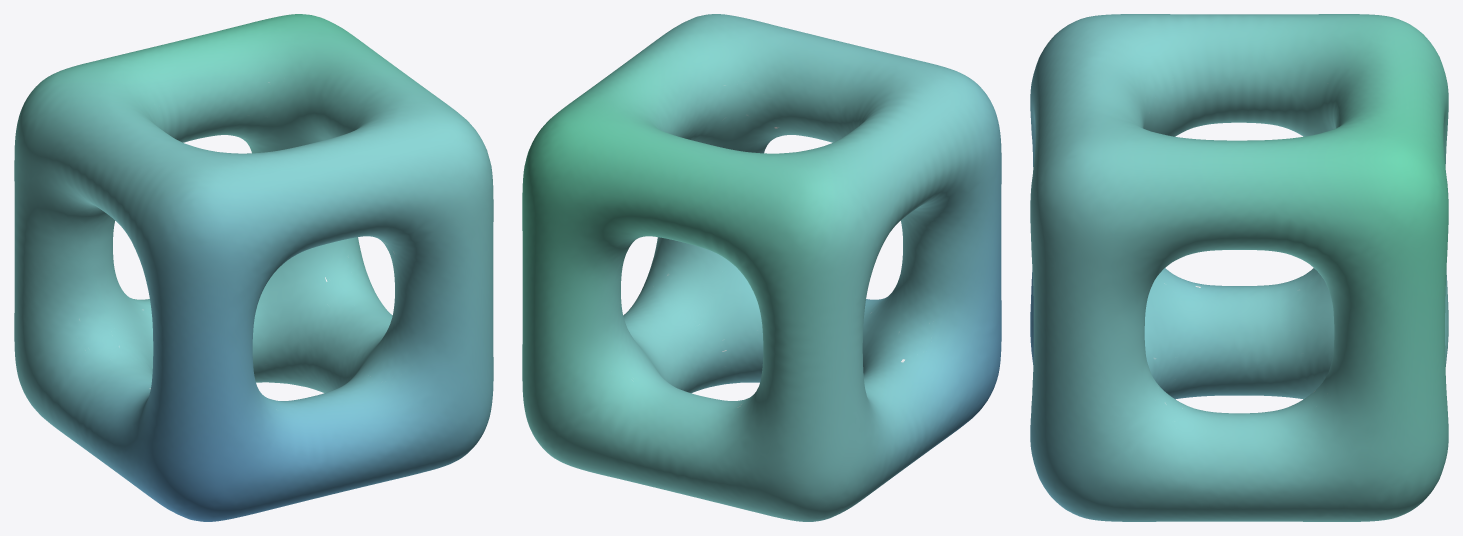
File: 05_squube_static.glb
3 renders of one model, left to right at view 1: azimuth 30°, elevation 25°; view 2: azimuth 150°, elevation 25°; view 3: azimuth 270°, elevation 25°, orthographic. The views are drawn at different scales.
Visible parts, largest first — view 1: 05_squube; view 2: 05_squube; view 3: 05_squube.
Boxes of the visible parts, x1,y1,x2,y2 form: 05_squube: [14, 14, 493, 521]; 05_squube: [522, 14, 1001, 521]; 05_squube: [1030, 14, 1448, 521].
Bounding box in the file's own units: 0.087 × 0.0872 × 0.0871.
1 material, 1 textured.
